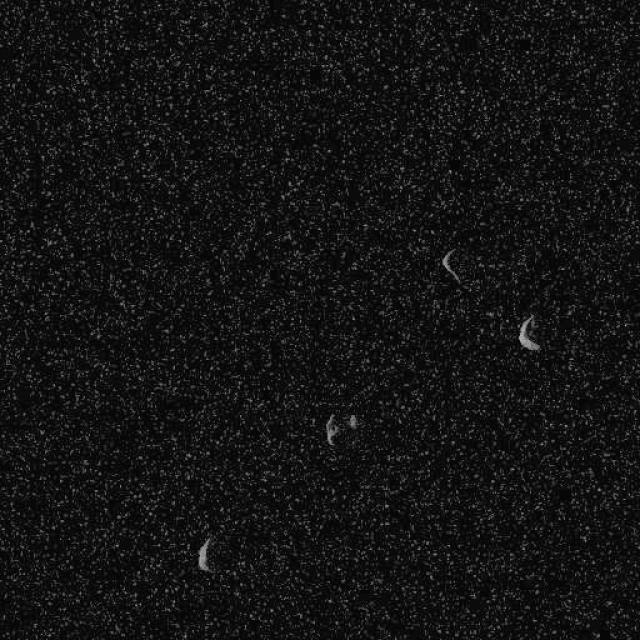D2: (324, 412, 358, 446), (516, 312, 542, 352), (440, 248, 464, 286), (196, 535, 215, 573), (324, 413, 340, 445)
